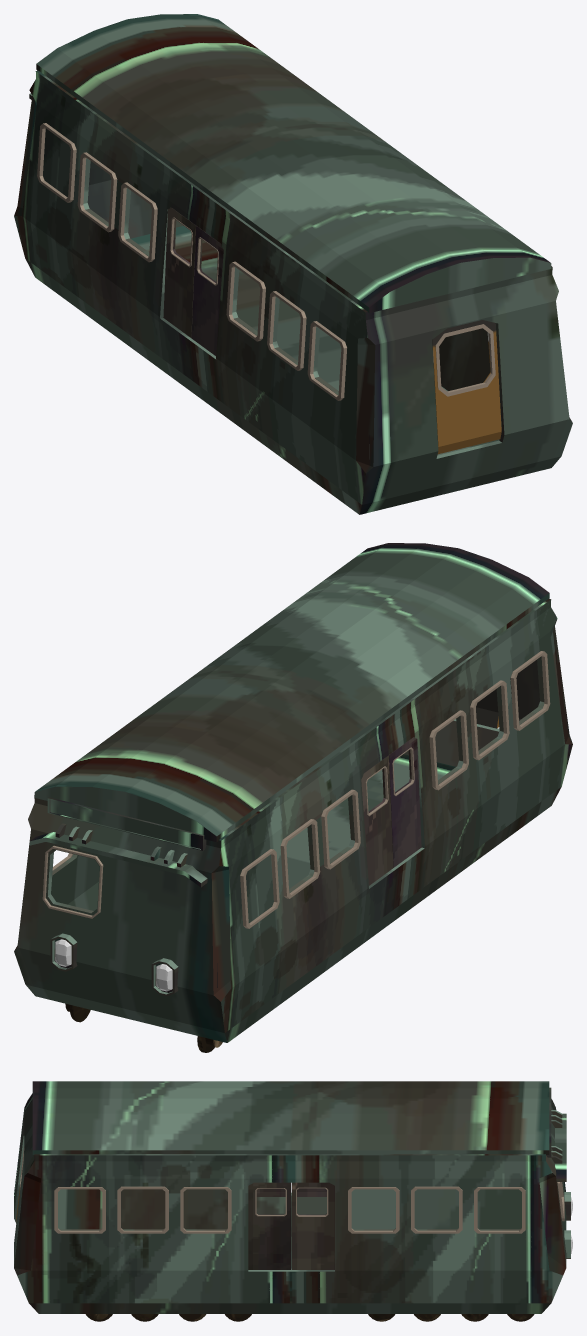
Rendered from SM_TRAINfback.fbx.
3 renders of one model, top to bottom at view 1: azimuth 30°, elevation 25°; view 2: azimuth 150°, elevation 25°; view 3: azimuth 270°, elevation 25°, orthographic. The views are drawn at different scales.
Parts seen in each view (by area): view 1: SM_traincar2, SM_trainwindows, SM_traindoors; view 2: SM_traincar2, SM_trainwindows, SM_traindoors, SM_trainlights; view 3: SM_traincar2, SM_traindoors, SM_trainwindows, SM_trainwheels.
Part boxes in pixels (x1,y1,x2,y2): SM_traincar2: (14,14,572,514); SM_trainwindows: (37,123,501,454); SM_traindoors: (163,207,223,355); SM_traincar2: (14,543,572,1042); SM_trainwindows: (42,651,550,928); SM_traindoors: (361,737,421,885); SM_trainlights: (55,939,172,991); SM_traincar2: (14,1081,570,1313); SM_traindoors: (248,1182,334,1269); SM_trainwindows: (16,1147,564,1233); SM_trainwheels: (85,1314,534,1321).
Bounding box in the file's own units: 376 × 441 × 1120.
